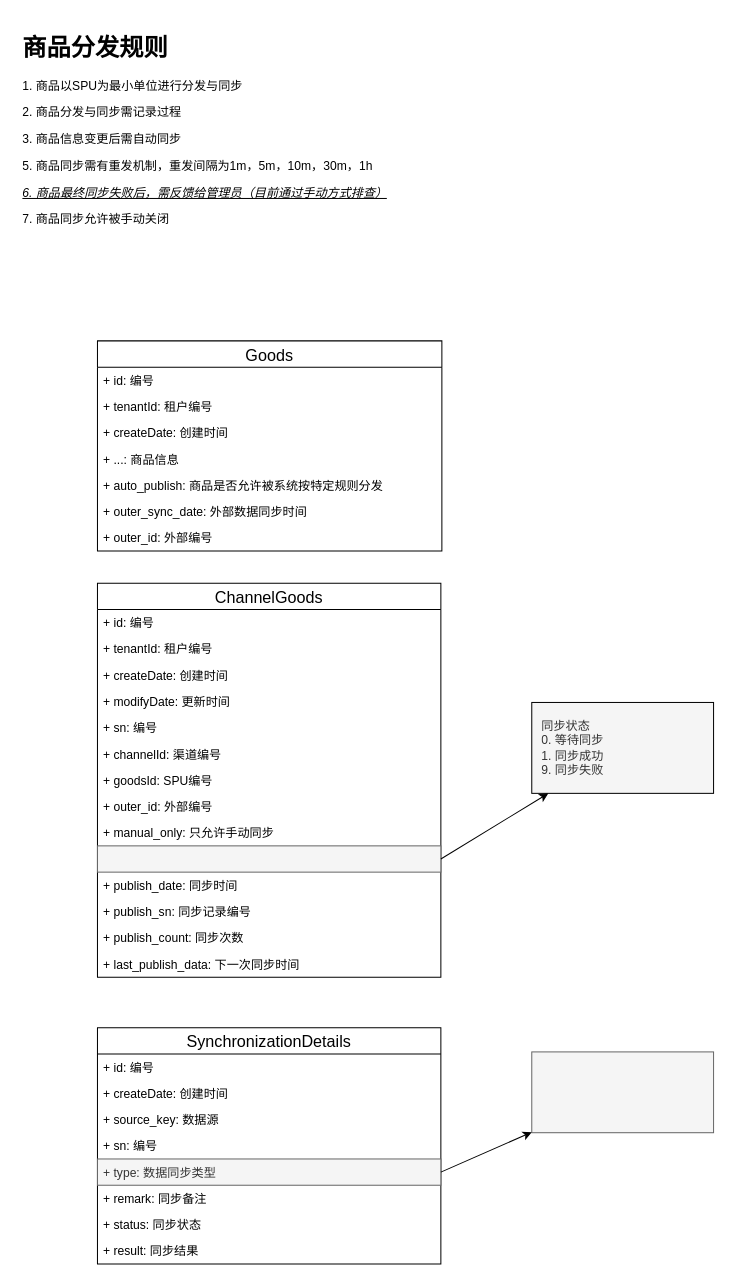
Image size: 731x1284. Some labels were removed from this diagram. Here are the shapes that lost their labels. From the top down, the centre of each, then its label:
At pixel 268 858: "+ publish_status: 同步状态".
At pixel 622 1092: "数据同步类型 1. 渠道商品同步".
